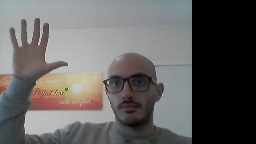Mano_aperta: (4, 16, 71, 83)
